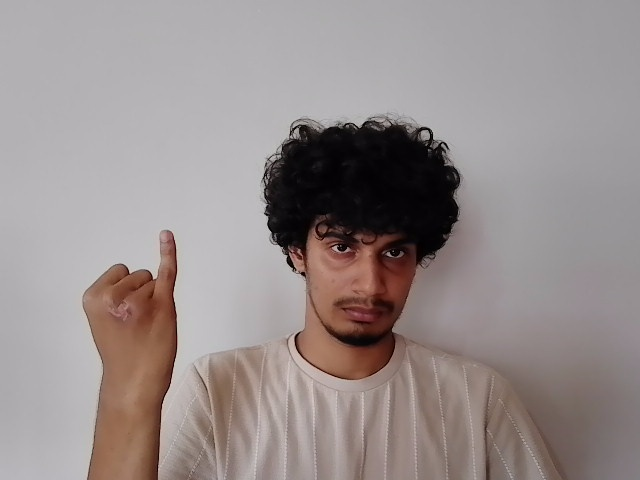bad: (82, 229, 179, 389)
